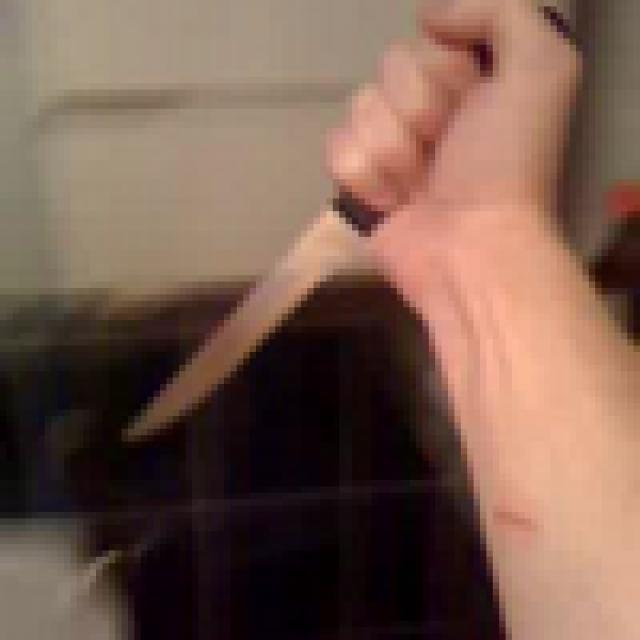Weapons: (95, 0, 611, 479)
